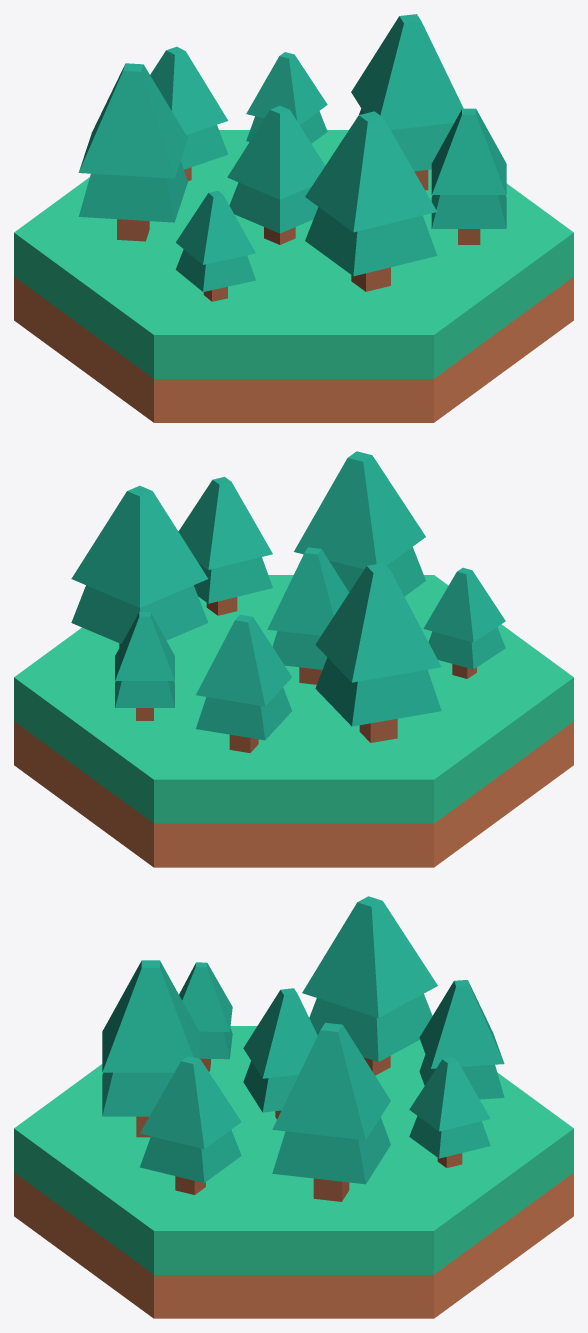
File: Grass Forest.glb
The picture shows the model from 3 angles, top to bottom: view 1: azimuth 30°, elevation 25°; view 2: azimuth 150°, elevation 25°; view 3: azimuth 270°, elevation 25°; orthographic projection.
Parts seen in each view (by area): view 1: grass_forest, tree.002, tree.004, tree, tree.006, tree.001, tree.005, tree.007, tree.003; view 2: grass_forest, tree.004, tree, tree.002, tree.007, tree.001, tree.006, tree.005, tree.003; view 3: grass_forest, tree, tree.004, tree.002, tree.001, tree.007, tree.006, tree.003, tree.005.
Part boxes in pixels (x1=…): grass_forest: x1=14, y1=130, x2=573, y2=422; tree.002: x1=305, y1=111, x2=437, y2=291; tree.004: x1=78, y1=63, x2=187, y2=241; tree: x1=351, y1=14, x2=463, y2=190; tree.006: x1=227, y1=105, x2=325, y2=244; tree.001: x1=431, y1=108, x2=506, y2=244; tree.005: x1=175, y1=191, x2=255, y2=301; tree.007: x1=150, y1=46, x2=228, y2=181; tree.003: x1=246, y1=52, x2=327, y2=143; grass_forest: x1=14, y1=575, x2=573, y2=867; tree.004: x1=315, y1=563, x2=441, y2=742; tree: x1=71, y1=485, x2=208, y2=647; tree.002: x1=294, y1=451, x2=425, y2=596; tree.007: x1=196, y1=614, x2=291, y2=752; tree.001: x1=178, y1=477, x2=272, y2=615; tree.006: x1=267, y1=547, x2=349, y2=684; tree.005: x1=423, y1=567, x2=505, y2=678; tree.003: x1=115, y1=612, x2=174, y2=720; grass_forest: x1=14, y1=1026, x2=573, y2=1318; tree: x1=272, y1=1022, x2=390, y2=1201; tree.004: x1=302, y1=896, x2=437, y2=1075; tree.002: x1=102, y1=960, x2=199, y2=1137; tree.001: x1=140, y1=1056, x2=241, y2=1194; tree.007: x1=419, y1=980, x2=504, y2=1099; tree.006: x1=243, y1=988, x2=317, y2=1119; tree.003: x1=409, y1=1057, x2=490, y2=1167; tree.005: x1=179, y1=962, x2=232, y2=1071.
Size of the model in its own units: 1 by 0.58 by 1.15.
